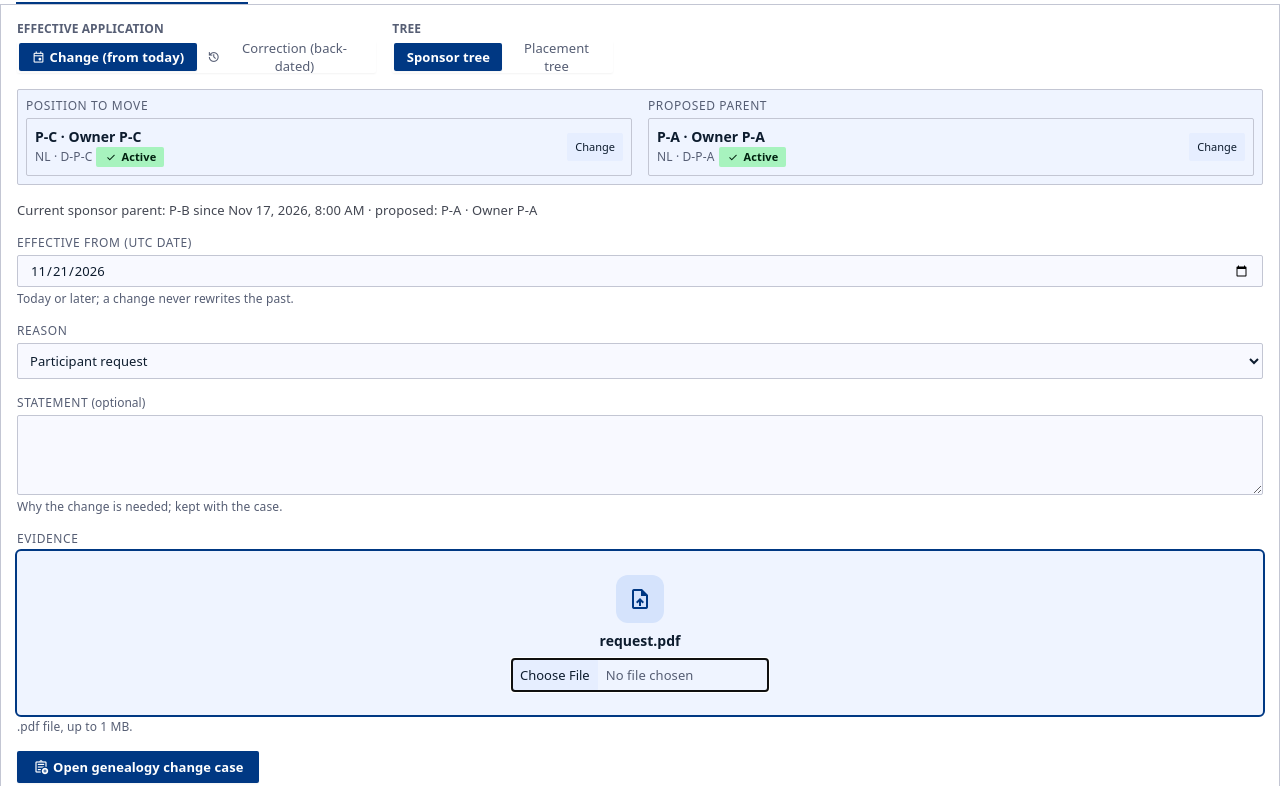
Scenario: GenealogyCasePage (SC-08 change) › keeps the opened case on a failed attach, locks the case fields, and sends a new evidence key for another file
This screenshot has width=1280, height=786.
Earlier steps of the test are not shown.
Later steps or results of the test are not shown.
(page scrolled)
Click the button "Open genealogy change case" at (138, 767), box [17,751,260,783]
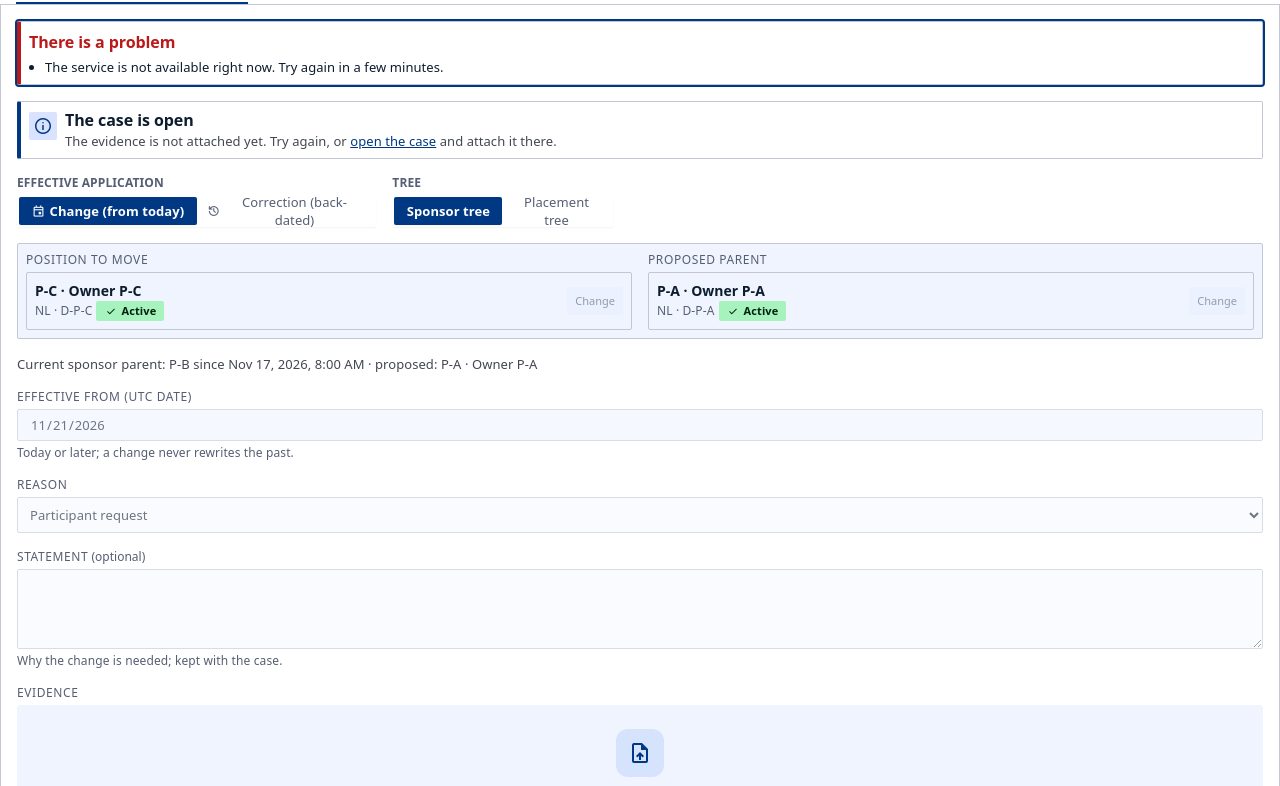
Expected: the text "The case is open" is shown, [65,109,194,131]
